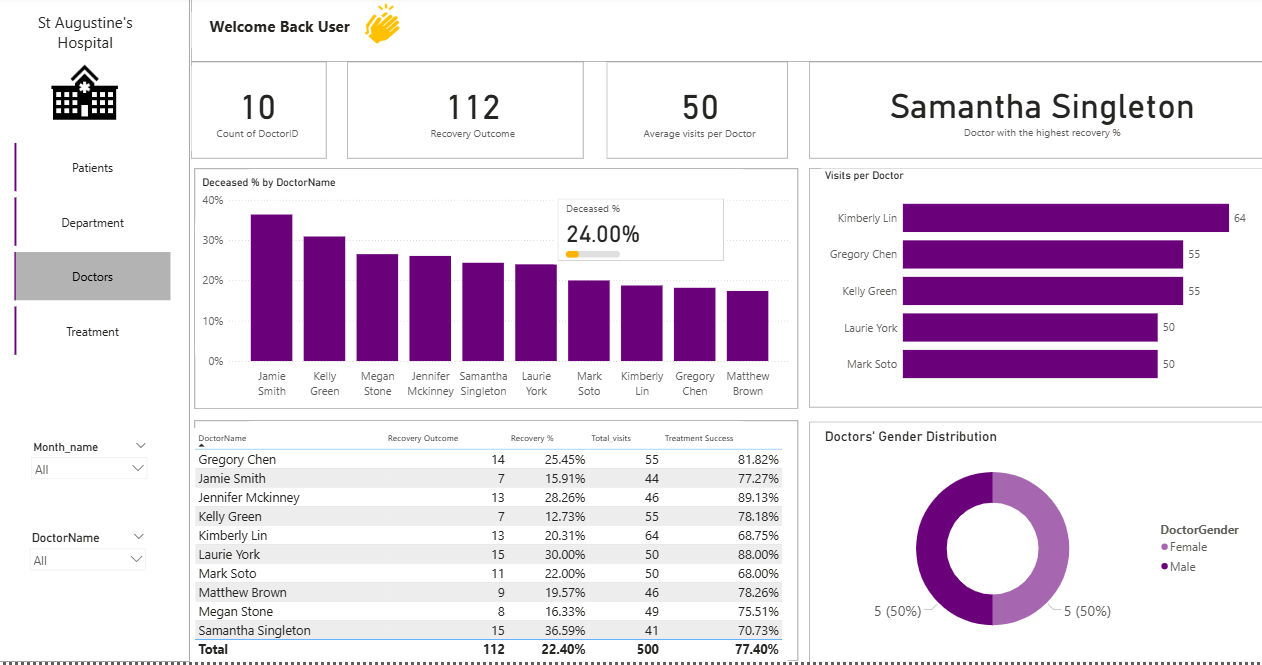

The dashboard page shown, as its layout file describes it:
{"tool":"powerbi","page":{"name":"Doctors","canvas":[2000,1050],"ordinal":2},"visuals":[{"type":"shape","box":[309.2,103.9,212.6,152.2],"z":0},{"type":"shape","box":[557.2,103.9,372,152.2],"z":1000},{"type":"shape","box":[964.5,103.9,285.1,152.2],"z":2000},{"type":"shape","box":[1285,103.9,715,152.2],"z":3000},{"type":"shape","box":[1285.2,273,715,376.8],"z":4000},{"type":"shape","box":[1285.2,671.6,715,379.3],"z":5000},{"type":"shape","box":[314,670.7,951.8,379.3],"z":6000},{"type":"shape","box":[314,273,951.8,379.3],"z":7000},{"type":"shape","box":[309.2,0,1691,103.9],"z":8000},{"type":"textbox","box":[309.2,26.6,277.8,55.6],"z":9000},{"type":"clusteredColumnChart","fields":{"Y":["Calculated_measures.Deceased %"],"Category":["Doctors_Dim.DoctorName"]},"box":[321.3,285.1,937.3,357.5],"z":10000},{"type":"clusteredBarChart","title":"Visits per Doctor","fields":{"Y":["CountNonNull(Fact_table.VisitID)"],"Category":["Doctors_Dim.DoctorName"]},"box":[1304.5,273,695.7,359.9],"z":11000},{"type":"donutChart","title":"Doctors'' Gender Distribution","fields":{"Y":["CountNonNull(Doctors_Dim.DoctorID)"],"Category":["Doctors_Dim.DoctorGender"]},"box":[1304.5,681.2,681.2,355.1],"z":12000},{"type":"tableEx","fields":{"Values":["Doctors_Dim.DoctorName","Calculated_measures.Recovery Outcome","Calculated_measures.Recovery %","Calculated_measures.Total_visits","Calculated_measures.Treatment Success"]},"box":[309.2,681.2,939.7,369.6],"z":13000},{"type":"card","fields":{"Values":["CountNonNull(Doctors_Dim.DoctorID)"]},"box":[309.2,111.1,207.8,132.9],"z":14000},{"type":"card","fields":{"Values":["Calculated_measures.Recovery Outcome"]},"box":[591.8,111.1,323.7,132.9],"z":15000},{"type":"card","fields":{"Values":["Calculated_measures.Average visits per Doctor"]},"box":[990.3,111.1,239.2,132.9],"z":16000},{"type":"card","fields":{"Values":["Min(Doctors_Dim.DoctorName)"]},"box":[1304.3,111.1,695.7,130.4],"z":17000},{"type":"shape","box":[2.4,0,304.4,1050],"z":18000},{"type":"textbox","box":[45,20,195,85],"z":19000},{"type":"slicer","fields":{"Values":["Calendar_Dim.Month_name"]},"box":[48.3,695.7,202.9,77.3],"z":20000},{"type":"slicer","fields":{"Values":["Doctors_Dim.DoctorName"]},"box":[45.9,838.2,202.9,84.5],"z":21000},{"type":"pageNavigator","box":[31.4,231.9,246.4,335.8],"z":22000},{"type":"cardVisual","fields":{"Data":["Calculated_measures.Deceased %"]},"box":[881.7,314,273,108.7],"z":23000},{"type":"image","box":[53.1,87,178.8,132.9],"z":24000},{"type":"image","box":[562.9,0,94.2,87],"z":25000}]}

Visuals, with their boxes on the page's 2000x1050 design canvas (x1, y1, x2, y2). These are canvas units, not pixel positions in the 1262x665 screenshot, which may show the page scaled, cropped or inside an application window:
shape: (x1=309, y1=104, x2=522, y2=256)
shape: (x1=557, y1=104, x2=929, y2=256)
shape: (x1=964, y1=104, x2=1250, y2=256)
shape: (x1=1285, y1=104, x2=2000, y2=256)
shape: (x1=1285, y1=273, x2=2000, y2=650)
shape: (x1=1285, y1=672, x2=2000, y2=1051)
shape: (x1=314, y1=671, x2=1266, y2=1050)
shape: (x1=314, y1=273, x2=1266, y2=652)
shape: (x1=309, y1=0, x2=2000, y2=104)
textbox: (x1=309, y1=27, x2=587, y2=82)
clusteredColumnChart - Calculated_measures.Deceased % x Doctors_Dim.DoctorName: (x1=321, y1=285, x2=1259, y2=643)
"Visits per Doctor" clusteredBarChart: (x1=1304, y1=273, x2=2000, y2=633)
"Doctors'' Gender Distribution" donutChart: (x1=1304, y1=681, x2=1986, y2=1036)
tableEx - Doctors_Dim.DoctorName x Calculated_measures.Recovery Outcome: (x1=309, y1=681, x2=1249, y2=1051)
card - CountNonNull(Doctors_Dim.DoctorID): (x1=309, y1=111, x2=517, y2=244)
card - Calculated_measures.Recovery Outcome: (x1=592, y1=111, x2=916, y2=244)
card - Calculated_measures.Average visits per Doctor: (x1=990, y1=111, x2=1230, y2=244)
card - Min(Doctors_Dim.DoctorName): (x1=1304, y1=111, x2=2000, y2=242)
shape: (x1=2, y1=0, x2=307, y2=1050)
textbox: (x1=45, y1=20, x2=240, y2=105)
slicer - Calendar_Dim.Month_name: (x1=48, y1=696, x2=251, y2=773)
slicer - Doctors_Dim.DoctorName: (x1=46, y1=838, x2=249, y2=923)
pageNavigator: (x1=31, y1=232, x2=278, y2=568)
cardVisual - Calculated_measures.Deceased %: (x1=882, y1=314, x2=1155, y2=423)
image: (x1=53, y1=87, x2=232, y2=220)
image: (x1=563, y1=0, x2=657, y2=87)
